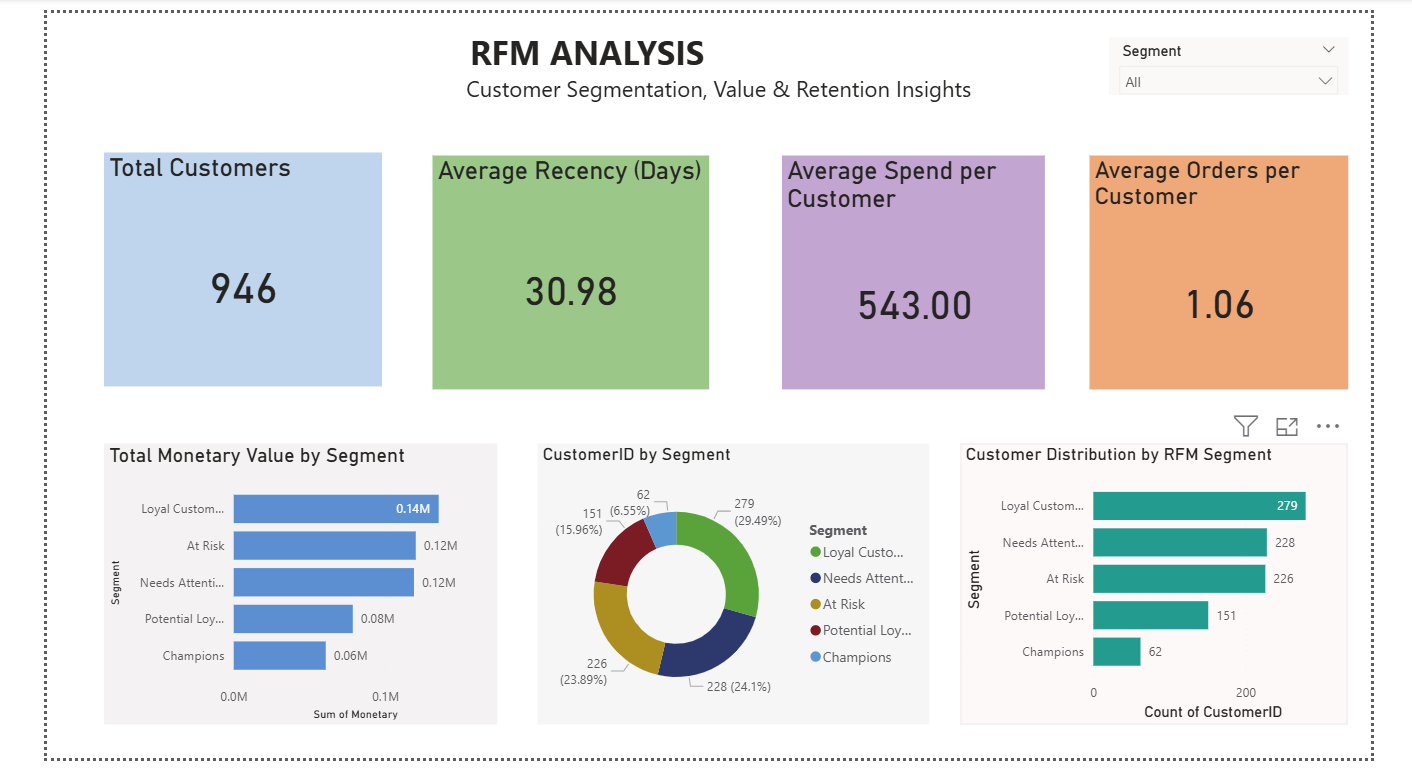

This screenshot's page, from the dashboard's own definition file:
{"tool":"powerbi","page":{"name":"Page 1","canvas":[1280,720],"ordinal":0},"visuals":[{"type":"clusteredBarChart","title":"Customer Distribution by RFM Segment","fields":{"Category":["rfm_results.Segment"],"Y":["CountNonNull(rfm_results.CustomerID)"]},"box":[882.9,415.7,374.3,271.4],"z":0},{"type":"card","title":"Total Customers","fields":{"Values":["Count(rfm_results.CustomerID)"]},"box":[55.7,134.3,268.6,225.7],"z":1000},{"type":"card","title":"Average Recency (Days)","fields":{"Values":["Avg(rfm_results.Recency)"]},"box":[372.9,137.1,267.1,225.7],"z":2000},{"type":"card","title":"Average Orders per Customer","fields":{"Values":["Avg(rfm_results.Frequency)"]},"box":[1007.1,137.1,250,225.7],"z":3000},{"type":"card","title":"Average Spend per Customer","fields":{"Values":["Avg(rfm_results.Monetary)"]},"box":[710,137.1,254.3,225.7],"z":4000},{"type":"donutChart","title":" CustomerID by Segment","fields":{"Category":["rfm_results.Segment"],"Y":["Count(rfm_results.CustomerID)"]},"box":[474.3,415.7,378.6,271.4],"z":5000},{"type":"textbox","box":[400,10,554.3,82.9],"z":6000},{"type":"clusteredBarChart","title":"Total Monetary Value by Segment","fields":{"Category":["rfm_results.Segment"],"Y":["Sum(rfm_results.Monetary)"]},"box":[55.7,415.7,380,271.4],"z":7000},{"type":"slicer","fields":{"Values":["rfm_results.Segment"]},"box":[1025.7,22.9,231.4,55.7],"z":8000}]}

Visuals, with their boxes in screenshot pixels (x1, y1, x2, y2), scaled from the page's 1280x720 canvas onto the 1412x773 screenshot:
"Customer Distribution by RFM Segment" clusteredBarChart: (974, 446, 1387, 738)
"Total Customers" card: (61, 144, 358, 386)
"Average Recency (Days)" card: (411, 147, 706, 390)
"Average Orders per Customer" card: (1111, 147, 1387, 390)
"Average Spend per Customer" card: (783, 147, 1064, 390)
" CustomerID by Segment" donutChart: (523, 446, 941, 738)
textbox: (441, 11, 1053, 100)
"Total Monetary Value by Segment" clusteredBarChart: (61, 446, 481, 738)
slicer - rfm_results.Segment: (1131, 25, 1387, 84)
